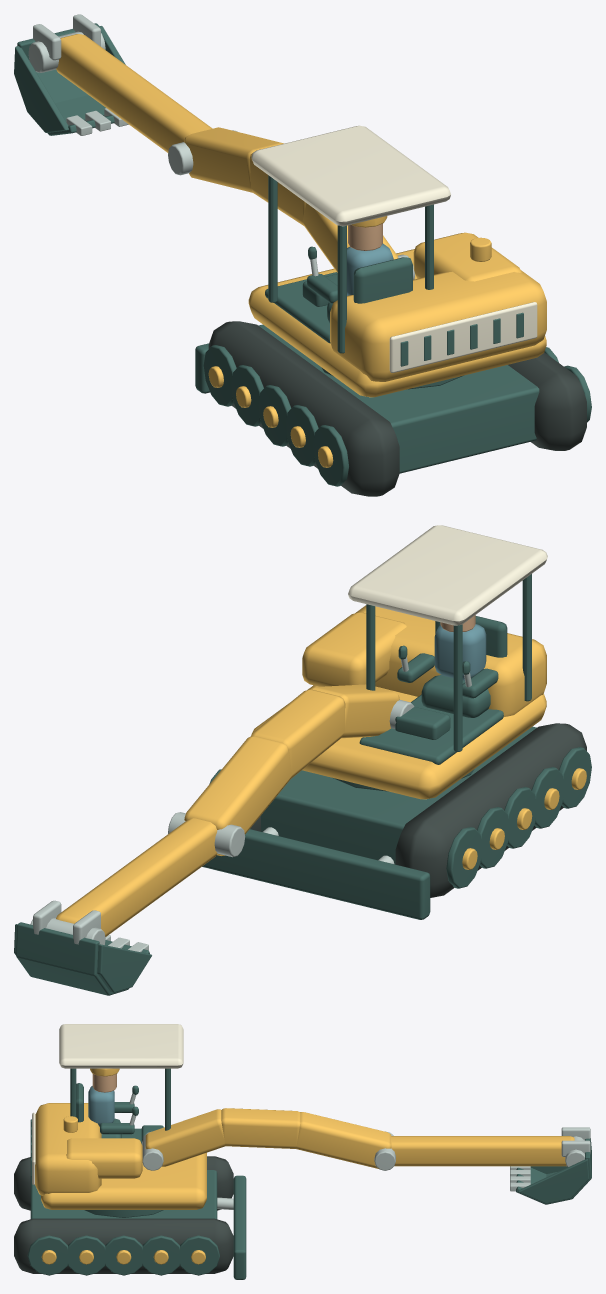
The model's file is mini-excavator.glb.
3 renders of one model, top to bottom at view 1: azimuth 30°, elevation 25°; view 2: azimuth 150°, elevation 25°; view 3: azimuth 270°, elevation 25°, orthographic. The views are drawn at different scales.
Visible parts, largest first — view 1: UpperShell, ExcavatorShell, StickShell, BucketShell, BoomShell, InteriorShell; view 2: ExcavatorShell, UpperShell, BoomShell, StickShell, BucketShell, InteriorShell; view 3: UpperShell, ExcavatorShell, BoomShell, StickShell, BucketShell, InteriorShell.
Boxes of the visible parts, box(x1,y1,x2,y2) form: UpperShell: box(248, 125, 546, 397); ExcavatorShell: box(195, 321, 591, 496); StickShell: box(56, 34, 237, 175); BucketShell: box(14, 14, 128, 135); BoomShell: box(184, 127, 414, 279); InteriorShell: box(302, 216, 412, 323); ExcavatorShell: box(202, 723, 591, 919); UpperShell: box(251, 525, 547, 799); BoomShell: box(184, 684, 414, 855); StickShell: box(56, 812, 245, 936); BucketShell: box(14, 900, 151, 995); InteriorShell: box(395, 615, 507, 739); UpperShell: box(30, 1024, 206, 1209); ExcavatorShell: box(14, 1156, 246, 1279); BoomShell: box(142, 1108, 391, 1170); StickShell: box(374, 1131, 574, 1170); BucketShell: box(510, 1127, 591, 1204); InteriorShell: box(76, 1068, 163, 1143).
Size of the model in its own units: 2.47 by 2.47 by 6.97.
